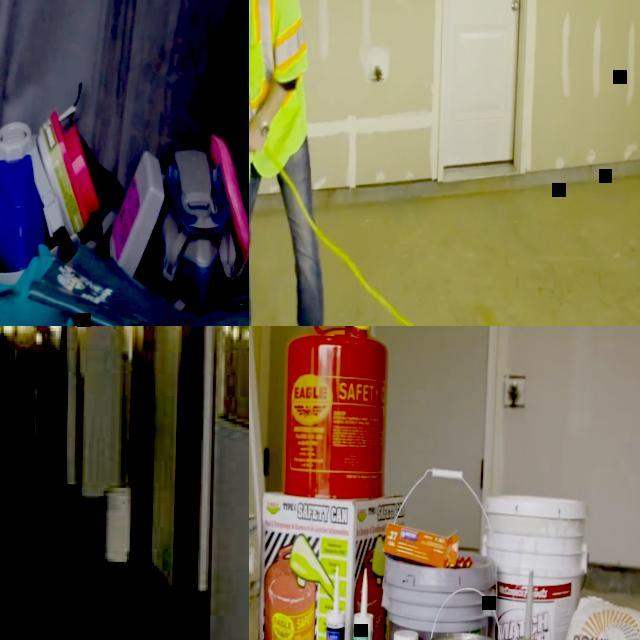vest: (249, 0, 309, 195)
